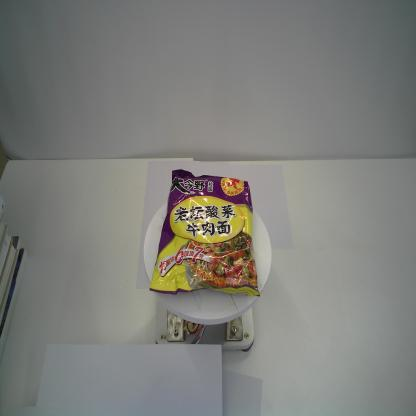Instant Noodles: (147, 167, 262, 299)
